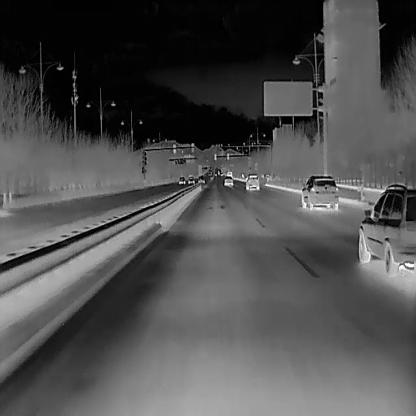bus: (226, 171, 232, 177)
car: (357, 182, 413, 274), (300, 172, 339, 212), (244, 173, 260, 191), (224, 173, 232, 187), (177, 176, 184, 184), (187, 174, 194, 182), (198, 174, 204, 183)
